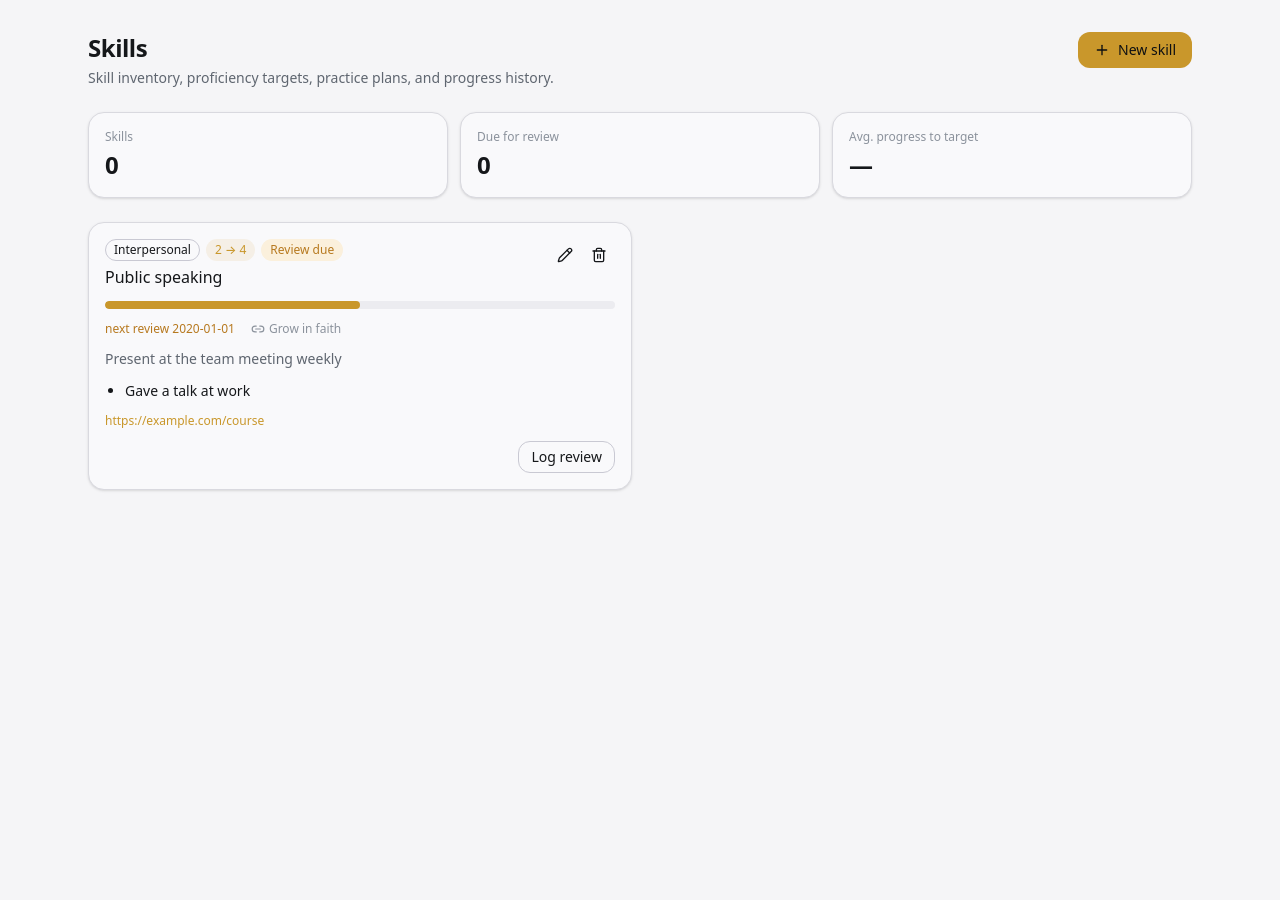
Test: SkillsView › opens the log-review dialog for a skill
Click the button "Log review". click: click(567, 457)
box: [518, 441, 615, 473]
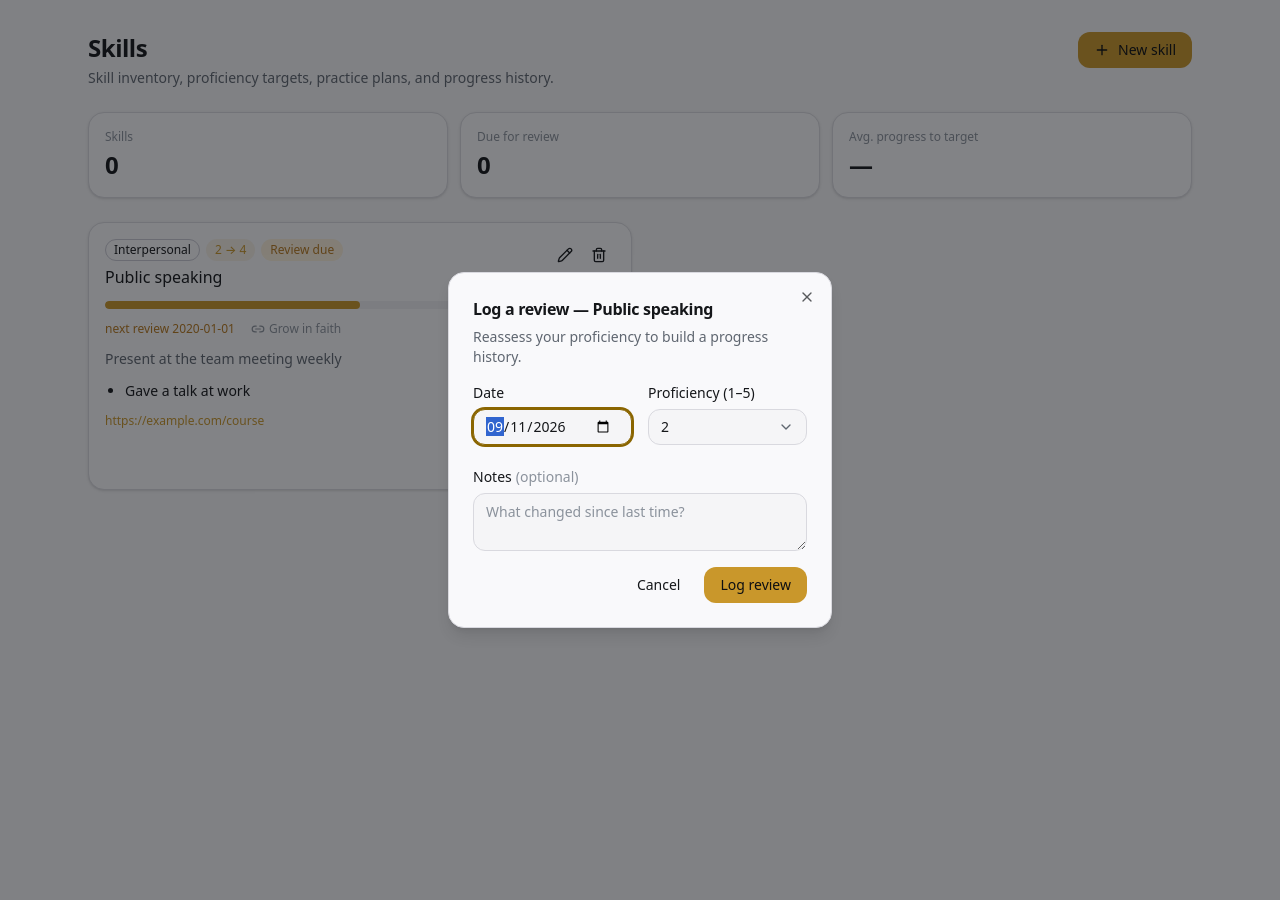
Expected: the heading "Log a review — Public speaking" is shown, [473, 298, 713, 320]
